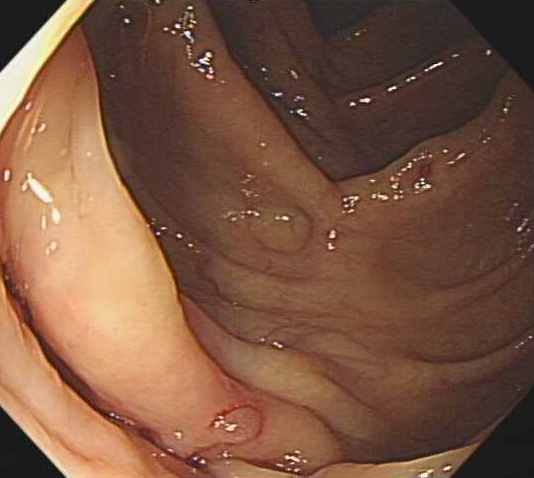others: (209, 403, 265, 448)
